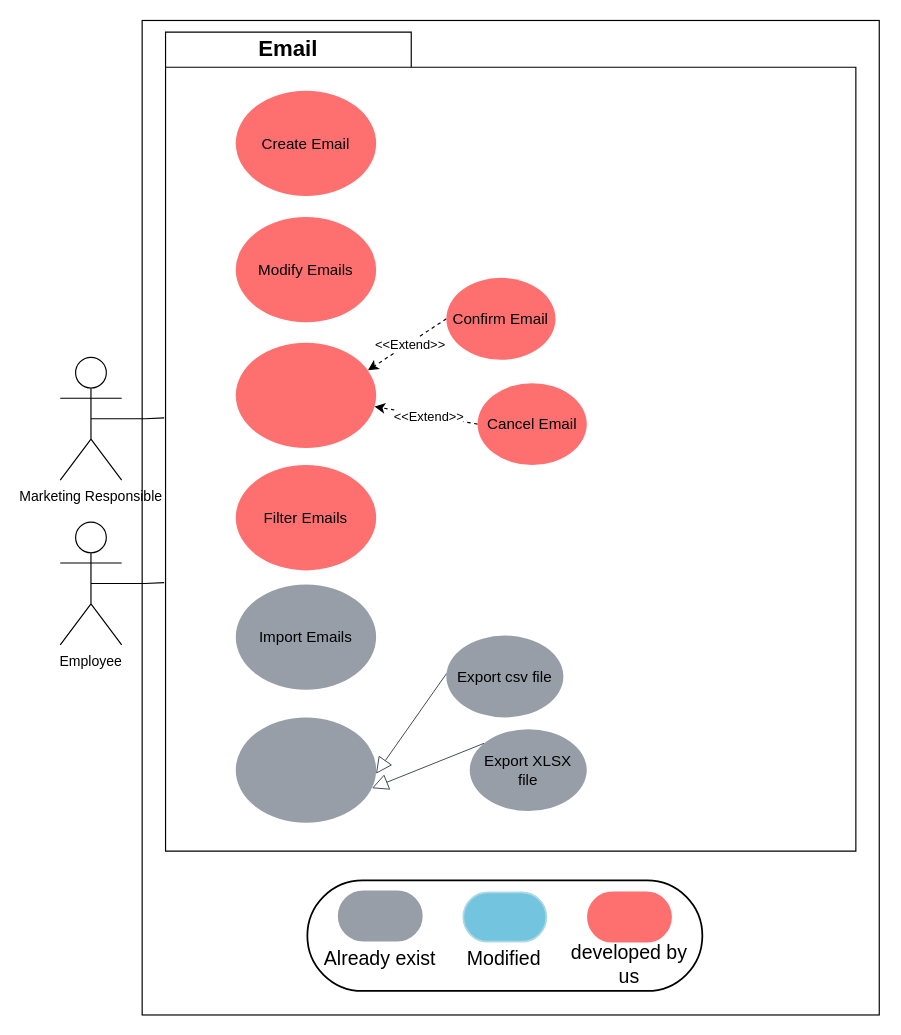
Some shapes in this 901 by 1035 pixel diagram are drawn without their labels. Here are the shapes that lost their labels. From the top down, the box of each, then its label:
(234, 341, 377, 448): Consult Emails
(234, 716, 377, 823): Export Emails
